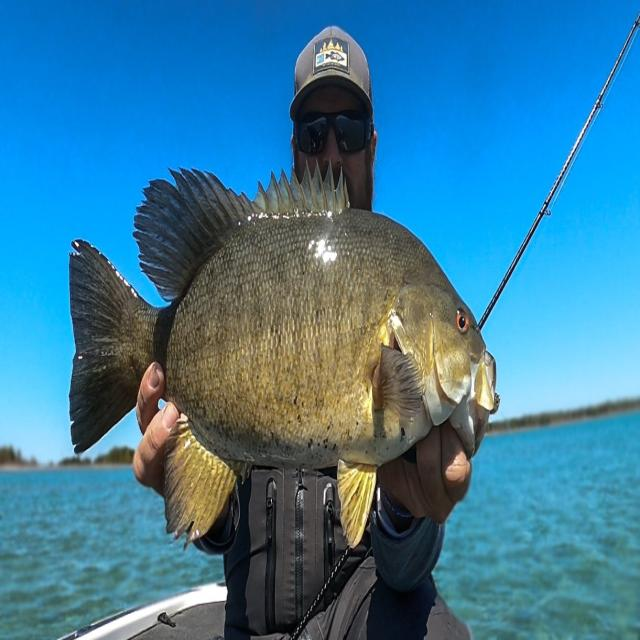Bass - Smallmouth: (70, 167, 499, 547)
